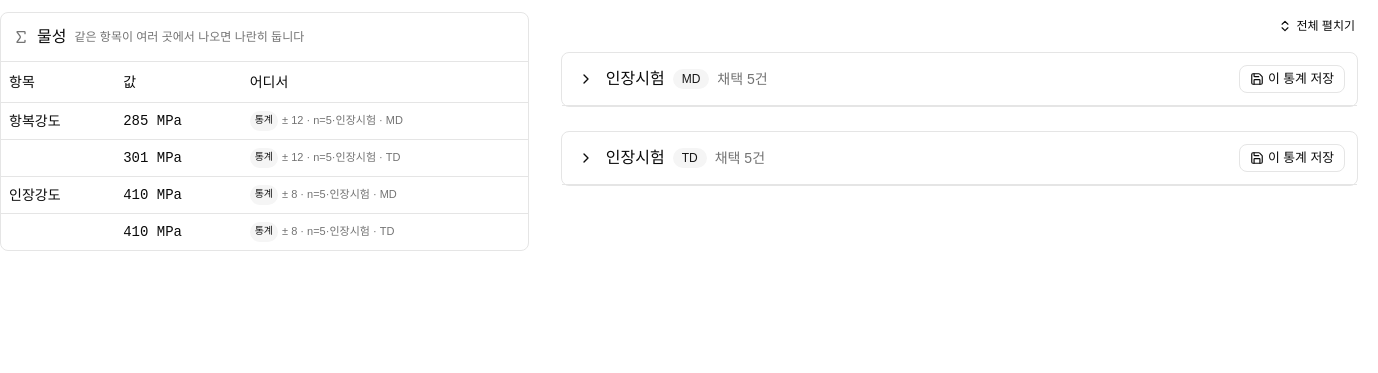
Test: 접기 › 펴면 자세한 통계가 나온다
This screenshot has width=1378, height=373.
Click the button named "인장시험 MD 펼치기". click: {"x": 586, "y": 79}
box: [574,67,598,91]
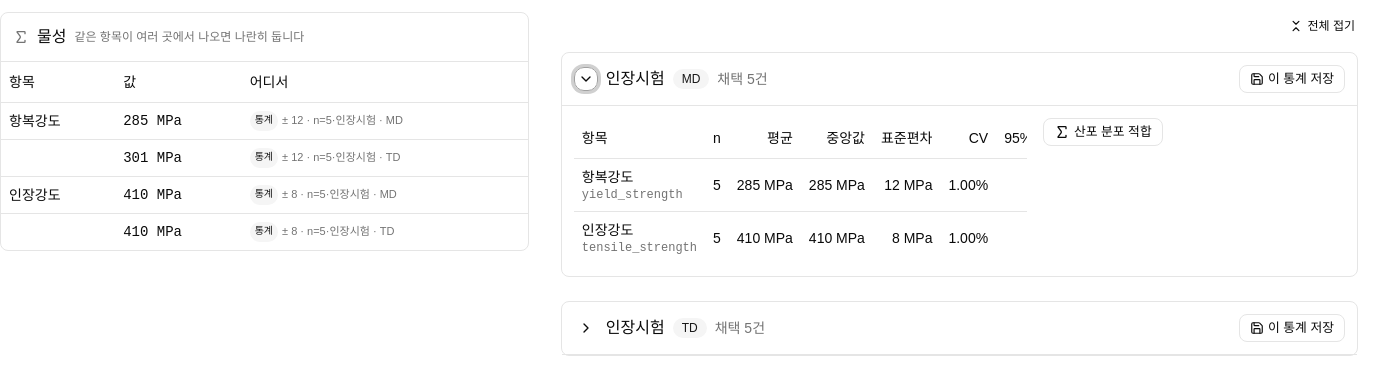
Check: the column heading "중앙값" is shown, box [801,118,873,158]
